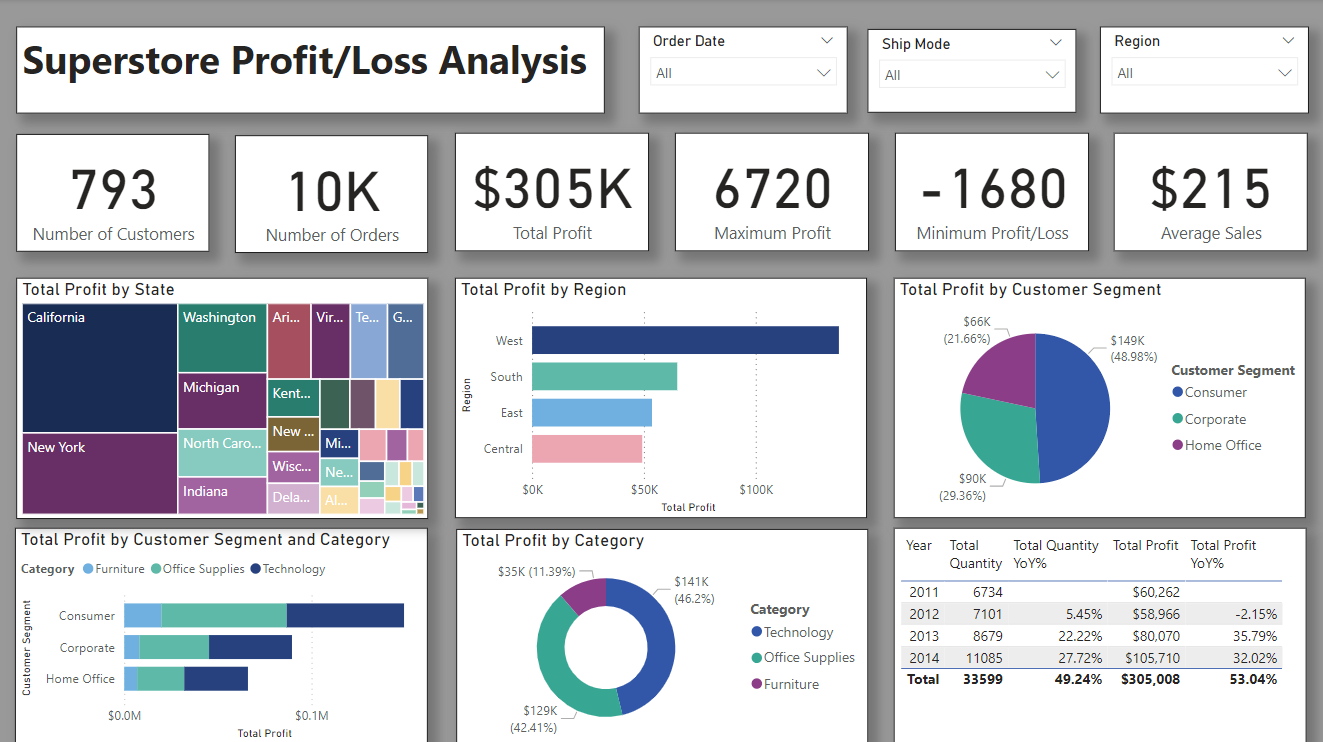

The page's visual inventory and layout, read from the dashboard file:
{"tool":"powerbi","page":{"name":"Profit Dashboard","canvas":[1280,720],"ordinal":0},"visuals":[{"type":"textbox","box":[15.1,26.1,568.1,83.7],"z":0},{"type":"slicer","fields":{"Values":["Orders.Order Date.Variation.Date Hierarchy.Year","Orders.Order Date.Variation.Date Hierarchy.Quarter","Orders.Order Date.Variation.Date Hierarchy.Month","Orders.Order Date.Variation.Date Hierarchy.Day"]},"box":[616.1,26.1,201.7,83.7],"z":1000},{"type":"slicer","fields":{"Values":["Orders.Ship Mode"]},"box":[837.1,28.8,201.7,81],"z":2000},{"type":"slicer","fields":{"Values":["Orders.Region"]},"box":[1062.1,26.1,201.7,83.7],"z":3000},{"type":"card","fields":{"Values":["Orders.Number of Customers"]},"box":[15.1,130.4,186.6,113.9],"z":4000},{"type":"card","fields":{"Values":["Orders.Number of Orders"]},"box":[226.4,131.7,186.6,113.9],"z":5000},{"type":"card","fields":{"Values":["Orders.Total Profit"]},"box":[439,129,186.9,114.6],"z":6000},{"type":"clusteredBarChart","fields":{"Category":["Orders.Region"],"Y":["Orders.Total Profit"]},"box":[439.1,269,397.9,231.9],"z":8000},{"type":"pieChart","fields":{"Category":["Orders.Customer Segment"],"Y":["Orders.Total Profit"]},"box":[863.1,269,397.9,231.9],"z":9000},{"type":"donutChart","fields":{"Category":["Orders.Category"],"Y":["Orders.Total Profit"]},"box":[440.5,511.8,397.9,208.6],"z":10000},{"type":"barChart","fields":{"Y":["Orders.Total Profit"],"Category":["Orders.Customer Segment"],"Series":["Orders.Category"]},"box":[15,510,398,209],"z":11000},{"type":"tableEx","fields":{"Values":["Orders.Order Date.Variation.Date Hierarchy.Year","Orders.Total Quantity","Orders.Total Quantity YoY%","Orders.Total Profit","Orders.Total Profit YoY%"]},"box":[863,510,398,209],"z":12000},{"type":"card","fields":{"Values":["Orders.Maximum Profit"]},"box":[651.3,129,186.9,114.6],"z":13000},{"type":"card","fields":{"Values":["Orders.Minimum Profit"]},"box":[863.5,129,186.9,114.6],"z":14000},{"type":"card","fields":{"Values":["Orders.Average Sales"]},"box":[1074.6,129,186.9,114.6],"z":15000},{"type":"treemap","fields":{"Group":["Orders.State"],"Values":["Orders.Total Profit"]},"box":[15.7,268.9,398,232.8],"z":15001}]}

Visuals, with their boxes in screenshot pixels (x1, y1, x2, y2), scaled from the page's 1280x720 canvas onto the 1323x742 screenshot:
textbox: select_region(16, 27, 603, 113)
slicer - Orders.Order Date.Variation.Date Hierarchy.Year x Orders.Order Date.Variation.Date Hierarchy.Quarter: select_region(637, 27, 845, 113)
slicer - Orders.Ship Mode: select_region(865, 30, 1074, 113)
slicer - Orders.Region: select_region(1098, 27, 1306, 113)
card - Orders.Number of Customers: select_region(16, 134, 208, 252)
card - Orders.Number of Orders: select_region(234, 136, 427, 253)
card - Orders.Total Profit: select_region(454, 133, 647, 251)
clusteredBarChart - Orders.Region x Orders.Total Profit: select_region(454, 277, 865, 516)
pieChart - Orders.Customer Segment x Orders.Total Profit: select_region(892, 277, 1303, 516)
donutChart - Orders.Category x Orders.Total Profit: select_region(455, 527, 867, 741)
barChart - Orders.Total Profit x Orders.Customer Segment: select_region(16, 526, 427, 741)
tableEx - Orders.Order Date.Variation.Date Hierarchy.Year x Orders.Total Quantity: select_region(892, 526, 1303, 741)
card - Orders.Maximum Profit: select_region(673, 133, 866, 251)
card - Orders.Minimum Profit: select_region(893, 133, 1086, 251)
card - Orders.Average Sales: select_region(1111, 133, 1304, 251)
treemap - Orders.State x Orders.Total Profit: select_region(16, 277, 428, 517)
